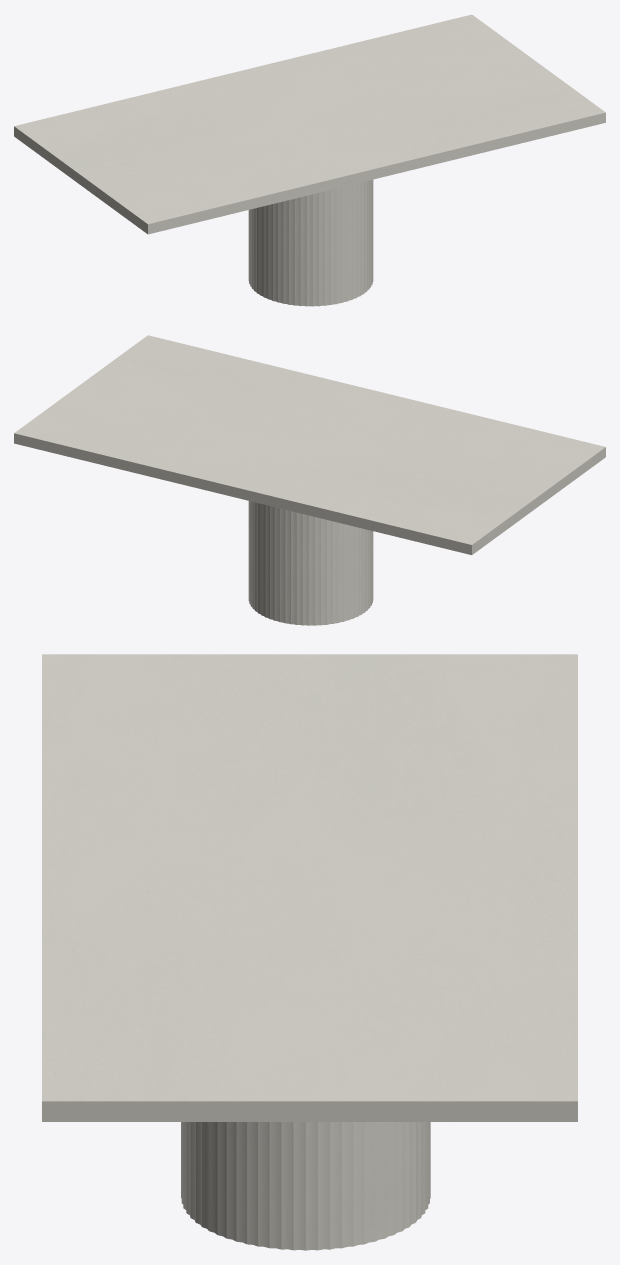
The model's file is pale_recta_standard_ripple.glb.
The picture shows the model from 3 angles, top to bottom: view 1: azimuth 30°, elevation 25°; view 2: azimuth 150°, elevation 25°; view 3: azimuth 270°, elevation 25°; orthographic projection. The views are drawn at different scales.
Visible parts, largest first — view 1: standard_recta, ripple; view 2: standard_recta, ripple; view 3: standard_recta, ripple.
Part boxes in pixels (x1,y1,x2,y2): standard_recta: (14,14,605,234); ripple: (248,179,373,306); standard_recta: (14,335,605,554); ripple: (248,501,373,625); standard_recta: (42,654,577,1121); ripple: (181,1122,430,1250).
Size of the model in its own units: 7.5 by 2.5 by 3.8.
Materials: 1 (1 with a texture image).
